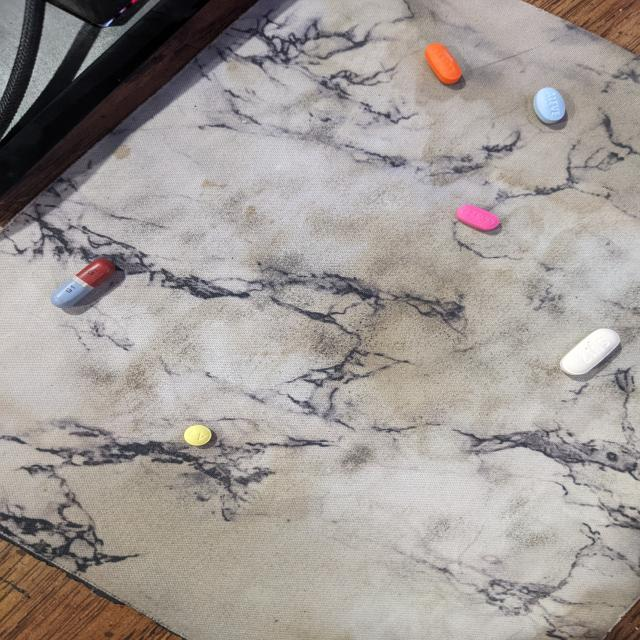non-organic waste: (49, 258, 116, 308), (558, 327, 621, 376), (424, 42, 462, 85), (532, 86, 566, 125), (455, 204, 500, 231), (183, 424, 212, 446)
